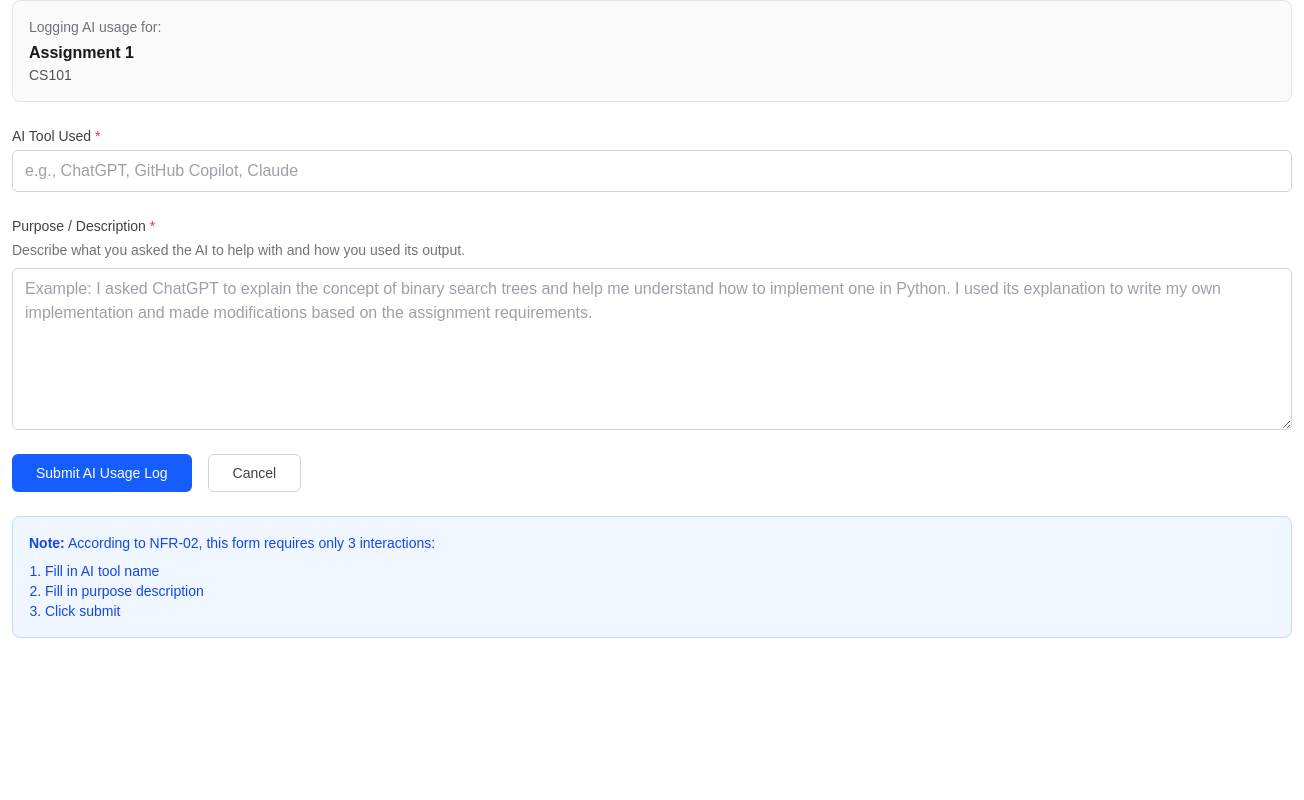
Test: AILogForm Component › displays a fallback error message if the action throws an exception
Type "Copilot" into the field labelled "AI Tool Used *". click: x=652, y=171
box: [12,150,1292,192]
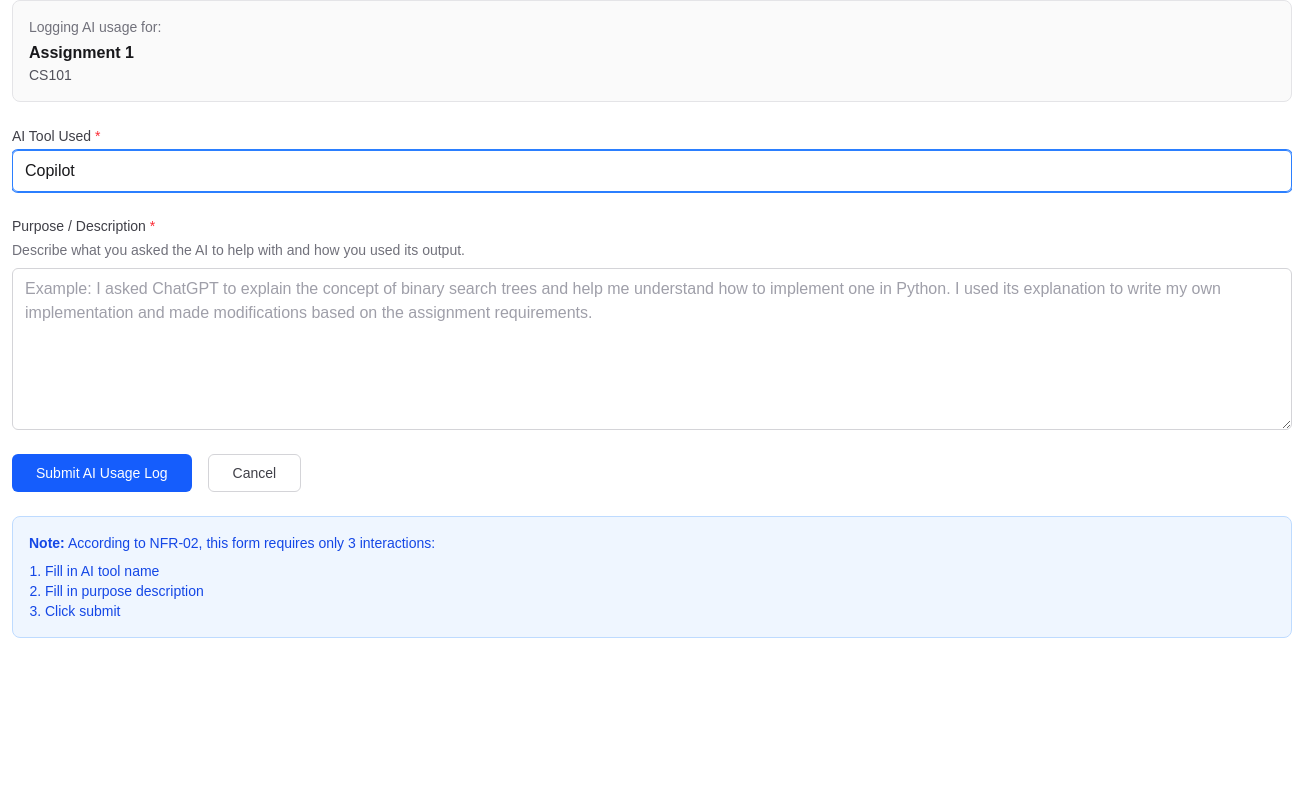
Type "Autocompleting some simple functions" into the text box labelled "Purpose / Description *". click: x=652, y=349
box: [12,268,1292,430]
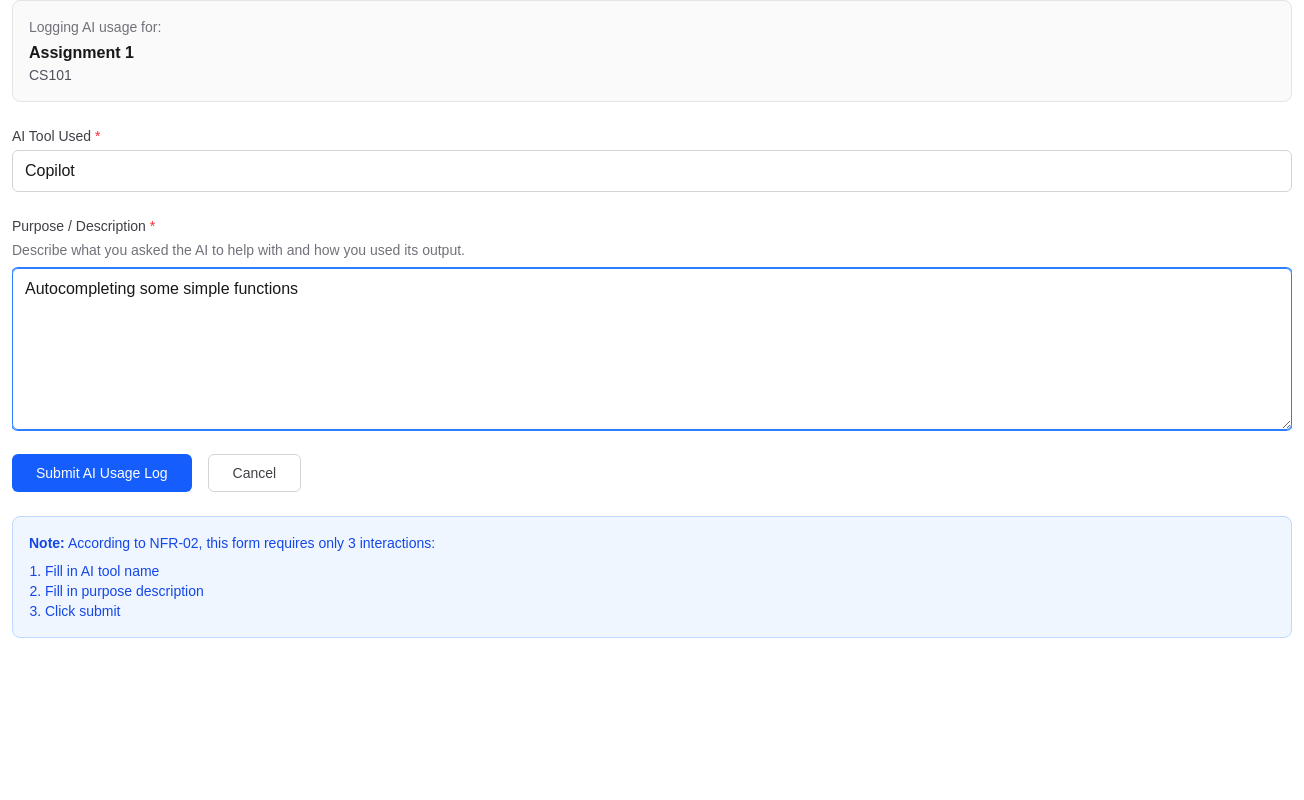
Click the button "Submit AI Usage Log". click: x=102, y=473
box: [12,454,192,492]
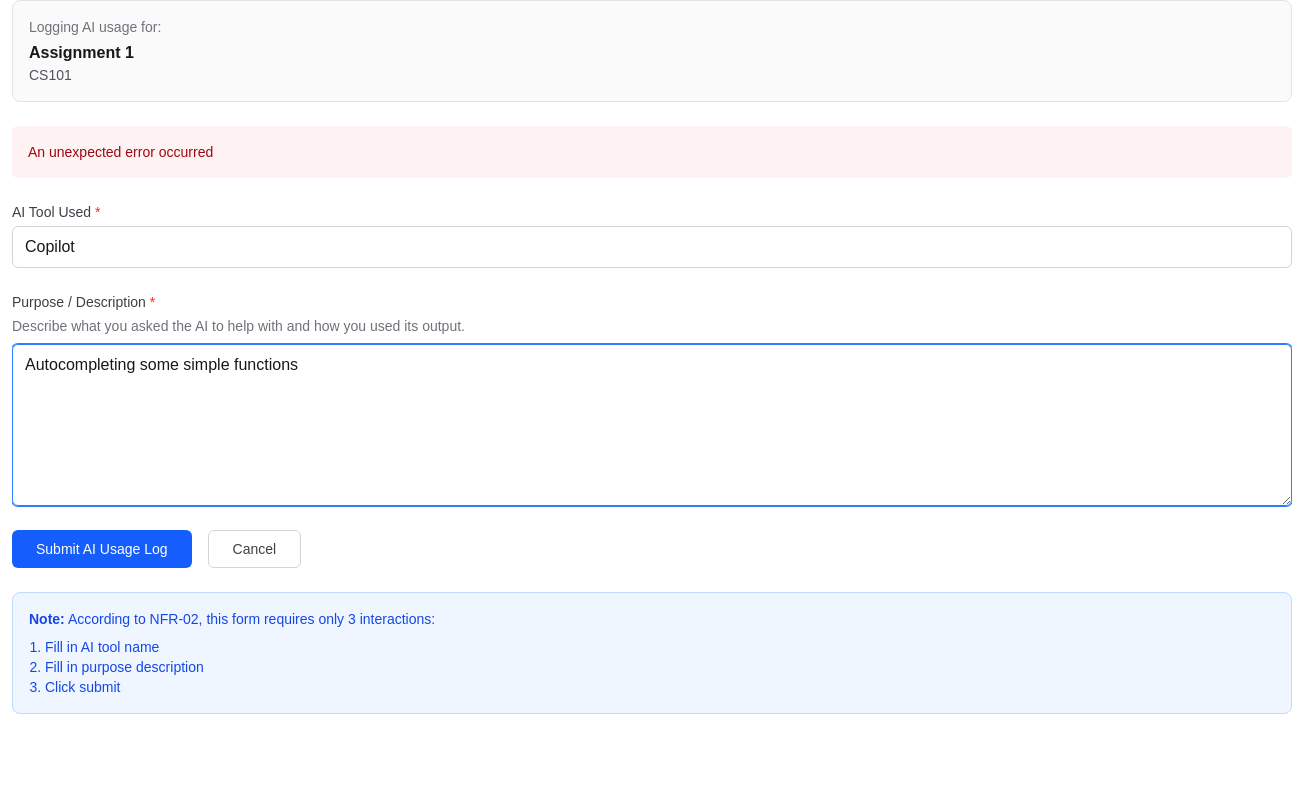
Check: the text "An unexpected error occurred" is shown, box [12,126,1292,178]
